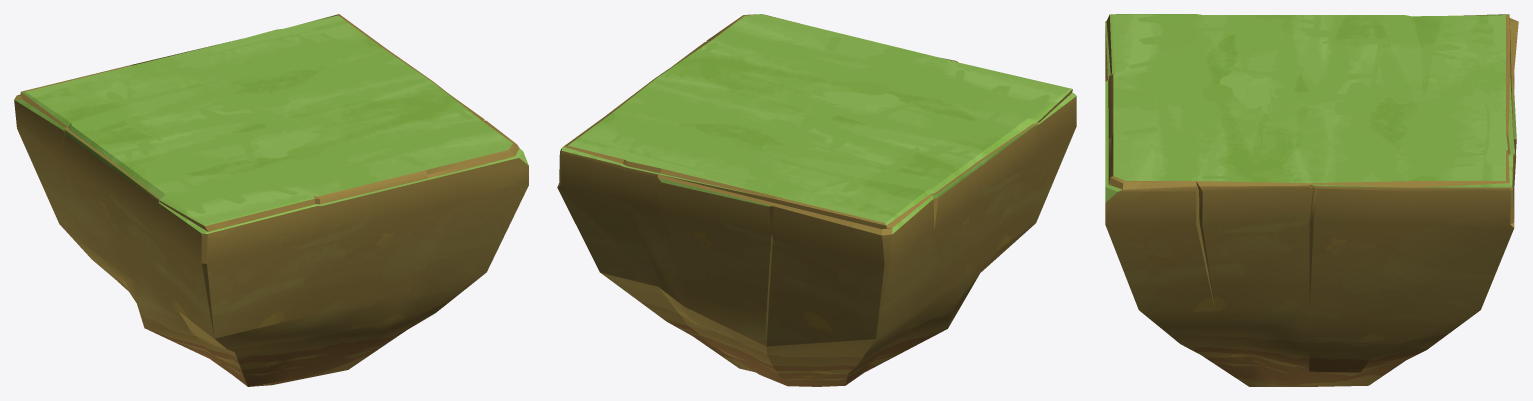
File: ground.fbx
The picture shows the model from 3 angles, left to right: view 1: azimuth 30°, elevation 25°; view 2: azimuth 150°, elevation 25°; view 3: azimuth 270°, elevation 25°; orthographic projection. The views are drawn at different scales.
Visible parts, largest first — view 1: pCube1; view 2: pCube1; view 3: pCube1.
Part boxes in pixels (x1,y1,x2,y2): pCube1: [14, 14, 528, 386]; pCube1: [557, 14, 1076, 386]; pCube1: [1105, 14, 1518, 386].
Size of the model in its own units: 993 by 767 by 996.
2 materials, 2 textured.
